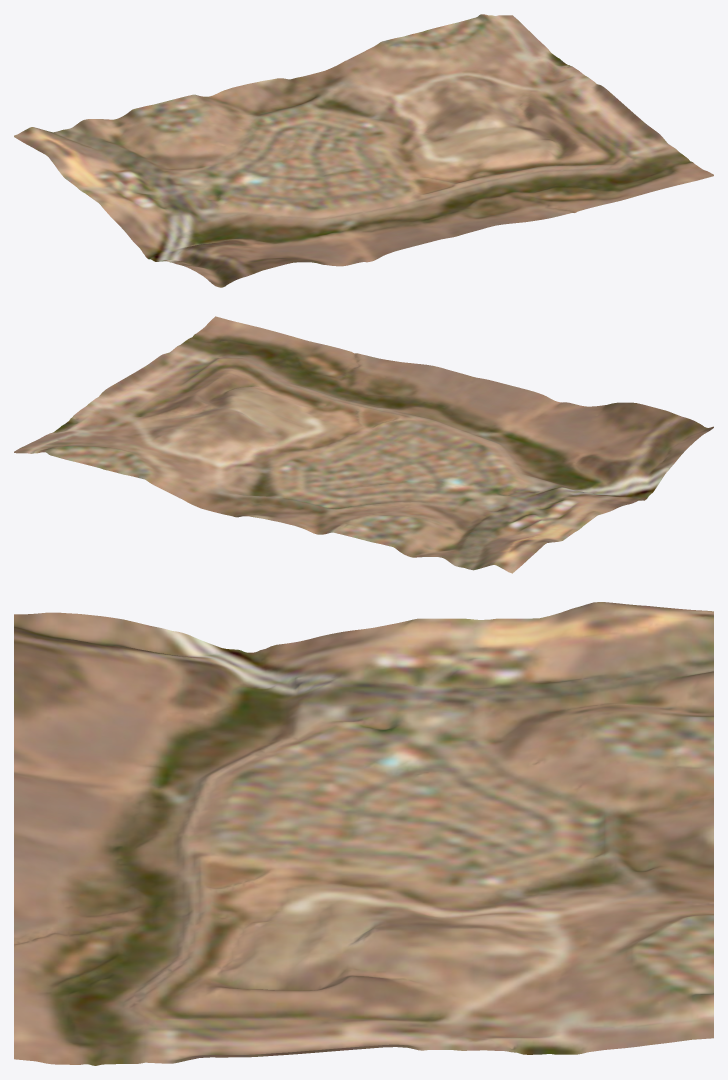
The model's file is terrain_r5_c2.glb.
3 views of the same model, one above another, from view 1: azimuth 30°, elevation 25°; view 2: azimuth 150°, elevation 25°; view 3: azimuth 270°, elevation 25° (orthographic). The views are drawn at different scales.
Visible parts, largest first — view 1: terrain_r5_c2_lod0; view 2: terrain_r5_c2_lod0; view 3: terrain_r5_c2_lod0.
Boxes of the visible parts, x1,y1,x2,y2 form: terrain_r5_c2_lod0: [14, 14, 713, 287]; terrain_r5_c2_lod0: [14, 316, 713, 573]; terrain_r5_c2_lod0: [14, 602, 713, 1065].
Bounding box in the file's own units: 1125 × 70.25 × 787.
Materials: 1 (1 with a texture image).
